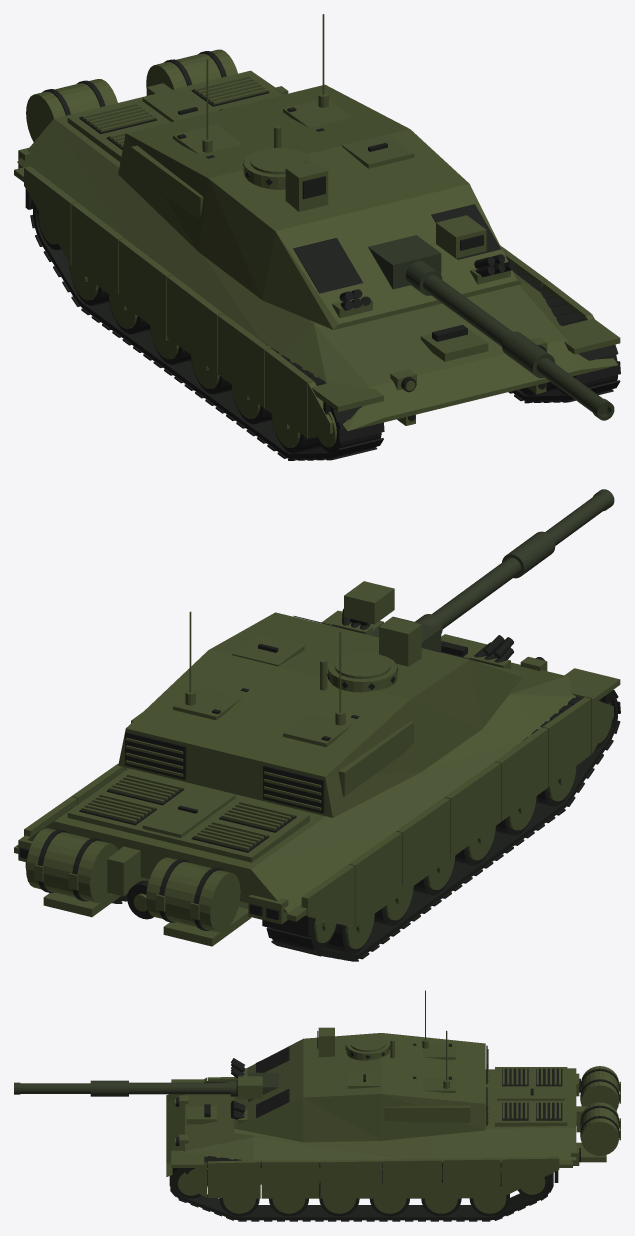
The model's file is challenger2.obj.
3 renders of one model, top to bottom at view 1: azimuth 30°, elevation 25°; view 2: azimuth 150°, elevation 25°; view 3: azimuth 270°, elevation 25°, orthographic. The views are drawn at different scales.
Parts seen in each view (by area): view 1: turret_armour, upper_hull, left_track_belt, left_skirt_3, left_skirt_4, left_skirt_5, left_skirt_2, left_skirt_1, left_rear_drum, cheek_panel_-1, left_skirt_6, mantlet (+21 smaller); view 2: turret_armour, upper_hull, left_rear_drum, left_track_belt, engine_deck, right_rear_drum, left_skirt_3, left_skirt_4, left_skirt_5, left_skirt_2, left_skirt_1, engine_service_panel (+22 smaller); view 3: turret_armour, upper_hull, right_track_belt, right_skirt_3, right_skirt_4, right_skirt_5, right_skirt_2, right_skirt_1, engine_deck, right_rear_drum, right_skirt_6, turret_side_bin_1 (+28 smaller).
Boxes of the visible parts, x1,y1,x2,y2 form: turret_armour: (118, 84, 522, 329); upper_hull: (17, 70, 617, 431); left_track_belt: (33, 203, 381, 459); left_skirt_3: (167, 275, 223, 373); left_skirt_4: (118, 238, 172, 336); left_skirt_5: (71, 202, 124, 298); left_skirt_2: (217, 314, 270, 408); left_skirt_1: (265, 348, 313, 438); left_rear_drum: (26, 79, 117, 141); cheek_panel_-1: (293, 238, 362, 293); left_skirt_6: (24, 166, 77, 264); mantlet: (368, 235, 441, 289); turret_armour: (118, 612, 522, 817); upper_hull: (17, 629, 617, 912); left_rear_drum: (146, 857, 240, 932); left_track_belt: (272, 691, 618, 960); engine_deck: (67, 770, 309, 862); right_rear_drum: (26, 828, 118, 903); left_skirt_3: (444, 762, 500, 858); left_skirt_4: (396, 797, 450, 889); left_skirt_5: (349, 831, 401, 926); left_skirt_2: (495, 727, 548, 821); left_skirt_1: (542, 697, 591, 786); engine_service_panel: (142, 785, 235, 837); turret_armour: (234, 1033, 485, 1142); upper_hull: (166, 1068, 576, 1176); right_track_belt: (171, 1156, 552, 1220); right_skirt_3: (320, 1159, 382, 1198); right_skirt_4: (383, 1158, 441, 1198); right_skirt_5: (443, 1157, 500, 1198); right_skirt_2: (261, 1160, 319, 1198); right_skirt_1: (208, 1160, 260, 1198); engine_deck: (495, 1067, 567, 1126); right_rear_drum: (581, 1102, 618, 1155); right_skirt_6: (501, 1156, 559, 1197); turret_side_bin_1: (384, 1106, 470, 1122).
Size of the model in its own units: 2.22 by 2.03 by 6.63.
